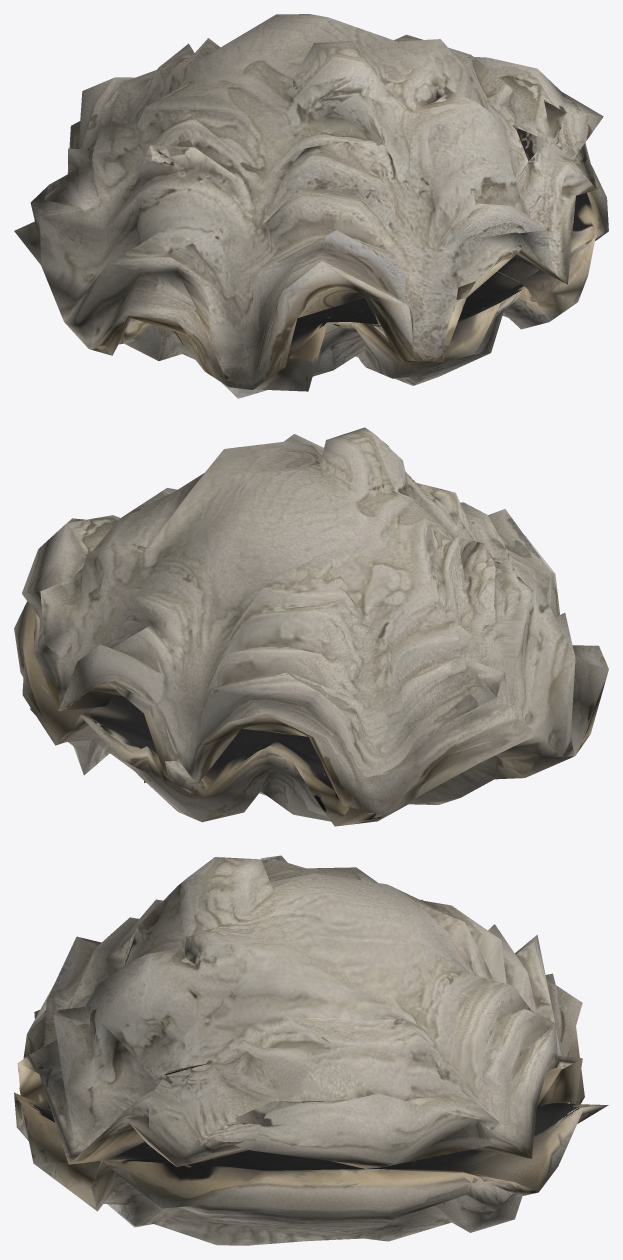
File: almejagigante.fbx
The picture shows the model from 3 angles, top to bottom: view 1: azimuth 30°, elevation 25°; view 2: azimuth 150°, elevation 25°; view 3: azimuth 270°, elevation 25°; orthographic projection. The views are drawn at different scales.
Parts seen in each view (by area): view 1: almejagigante; view 2: almejagigante; view 3: almejagigante.
Boxes of the visible parts, <box> form: almejagigante: <box>14,14,608,398</box>; almejagigante: <box>14,427,608,826</box>; almejagigante: <box>14,855,608,1245</box>.
Size of the model in its own units: 1 by 0.5884 by 0.957.
1 material, 1 textured.
